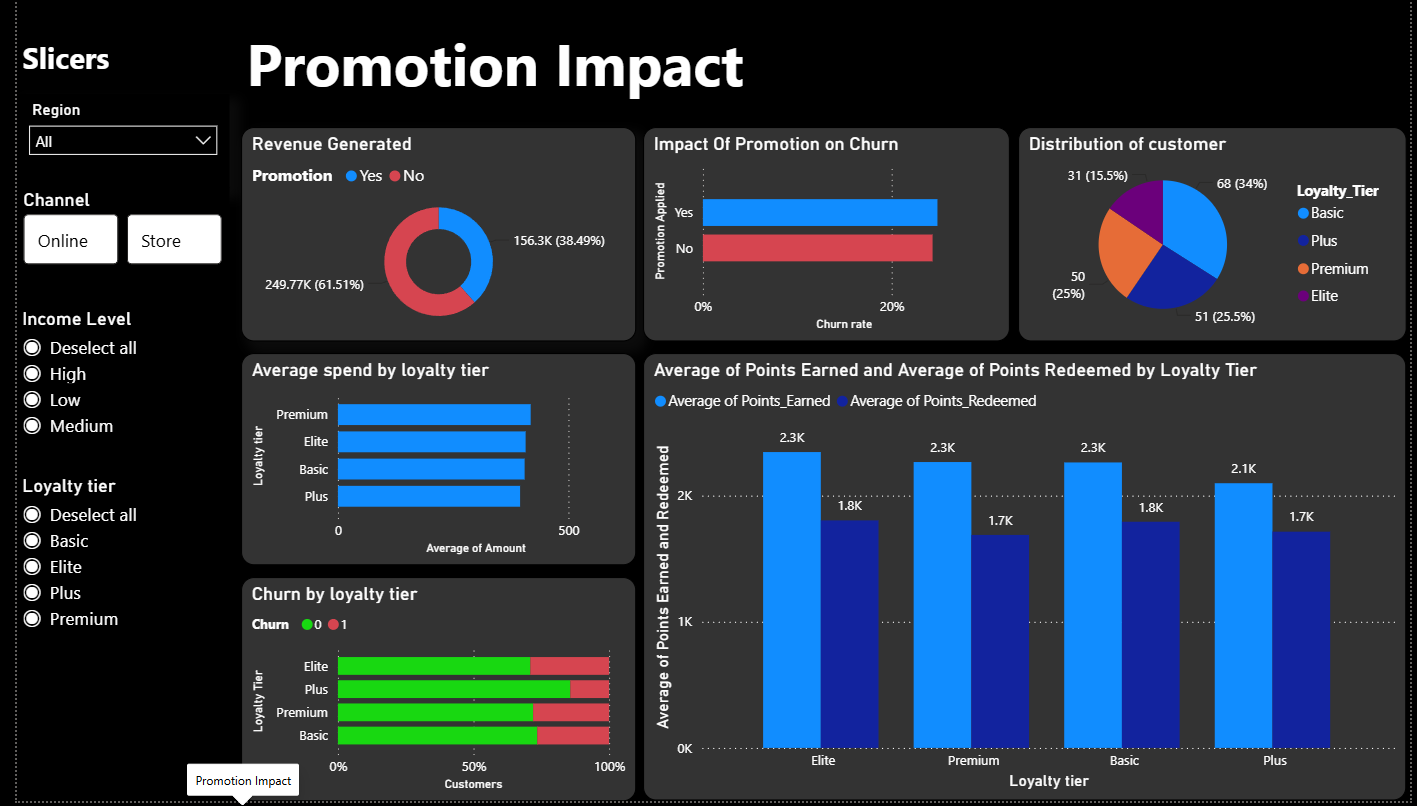

Layout of this report page (visuals, bound fields, positions):
{"tool":"powerbi","page":{"name":"Promotion Impact","canvas":[1280,720],"ordinal":1},"visuals":[{"type":"textbox","box":[205.7,0,1069.9,86.3],"z":0},{"type":"slicer","fields":{"Values":["Customer_Demographics.Region"]},"box":[0,70.6,194.5,85.7],"z":1000},{"type":"textbox","box":[0,13.8,194.7,56.9],"z":2000},{"type":"advancedSlicerVisual","title":"Channel","fields":{"Values":["Customer_Demographics.Preferred_Channel"]},"box":[0,156.2,194.5,77.6],"z":3000},{"type":"listSlicer","title":"Income Level","fields":{"Values":["Customer_Demographics.Income_Level"]},"box":[0,267,195,226],"z":4000},{"type":"listSlicer","title":"Loyalty tier","fields":{"Values":["Loyalty_Program.Loyalty_Tier"]},"box":[0,421,195,226],"z":5000},{"type":"donutChart","title":"Revenue Generated","fields":{"Category":["Customer_Transactions.Promotion_Applied"],"Y":["Sum(Customer_Transactions.Amount)"]},"box":[206,101,363,197],"z":6000},{"type":"clusteredBarChart","title":"Impact Of Promotion on Churn","fields":{"Category":["Customer_Transactions.Promotion_Applied"],"Y":["All measures.Churn rate"]},"box":[575,101,337,197],"z":7000},{"type":"clusteredBarChart","title":"Average spend by loyalty tier","fields":{"Category":["Loyalty_Program.Loyalty_Tier"],"Y":["Avg(Customer_Transactions.Amount)"]},"box":[206,309,363,195],"z":8000},{"type":"hundredPercentStackedBarChart","title":"Churn by loyalty tier","fields":{"Category":["Loyalty_Program.Loyalty_Tier"],"Y":["Count(Customer_Transactions.Customer_ID)"],"Series":["Churn_Labelled_Customers.Churn_Flag"]},"box":[206,514,363,206],"z":9000},{"type":"clusteredColumnChart","title":"Average of Points Earned and Average of Points Redeemed by Loyalty Tier","fields":{"Category":["Loyalty_Program.Loyalty_Tier"],"Y":["Avg(Loyalty_Program.Points_Earned)","Avg(Loyalty_Program.Points_Redeemed)"]},"box":[575,309,701,411],"z":10000},{"type":"pieChart","title":"Distribution of customer","fields":{"Y":["CountNonNull(Loyalty_Program.Customer_ID)"],"Category":["Loyalty_Program.Loyalty_Tier"]},"box":[919,101,357,197],"z":11000}]}

Visuals, with their boxes on the page's 1280x720 design canvas (x1, y1, x2, y2). These are canvas units, not pixel positions in the 1417x806 screenshot, which may show the page scaled, cropped or inside an application window:
textbox: bbox(206, 0, 1276, 86)
slicer - Customer_Demographics.Region: bbox(0, 71, 194, 156)
textbox: bbox(0, 14, 195, 71)
"Channel" advancedSlicerVisual: bbox(0, 156, 194, 234)
"Income Level" listSlicer: bbox(0, 267, 195, 493)
"Loyalty tier" listSlicer: bbox(0, 421, 195, 647)
"Revenue Generated" donutChart: bbox(206, 101, 569, 298)
"Impact Of Promotion on Churn" clusteredBarChart: bbox(575, 101, 912, 298)
"Average spend by loyalty tier" clusteredBarChart: bbox(206, 309, 569, 504)
"Churn by loyalty tier" hundredPercentStackedBarChart: bbox(206, 514, 569, 720)
"Average of Points Earned and Average of Points Redeemed by Loyalty Tier" clusteredColumnChart: bbox(575, 309, 1276, 720)
"Distribution of customer" pieChart: bbox(919, 101, 1276, 298)
